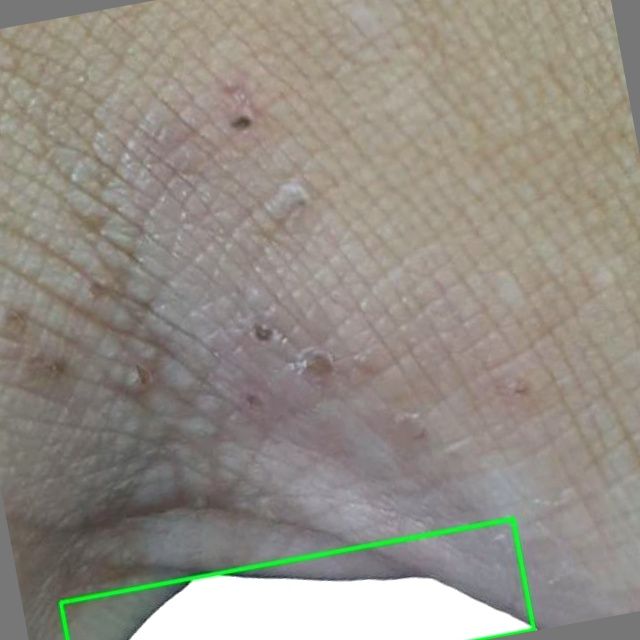Scabies: (60, 518, 533, 639)
